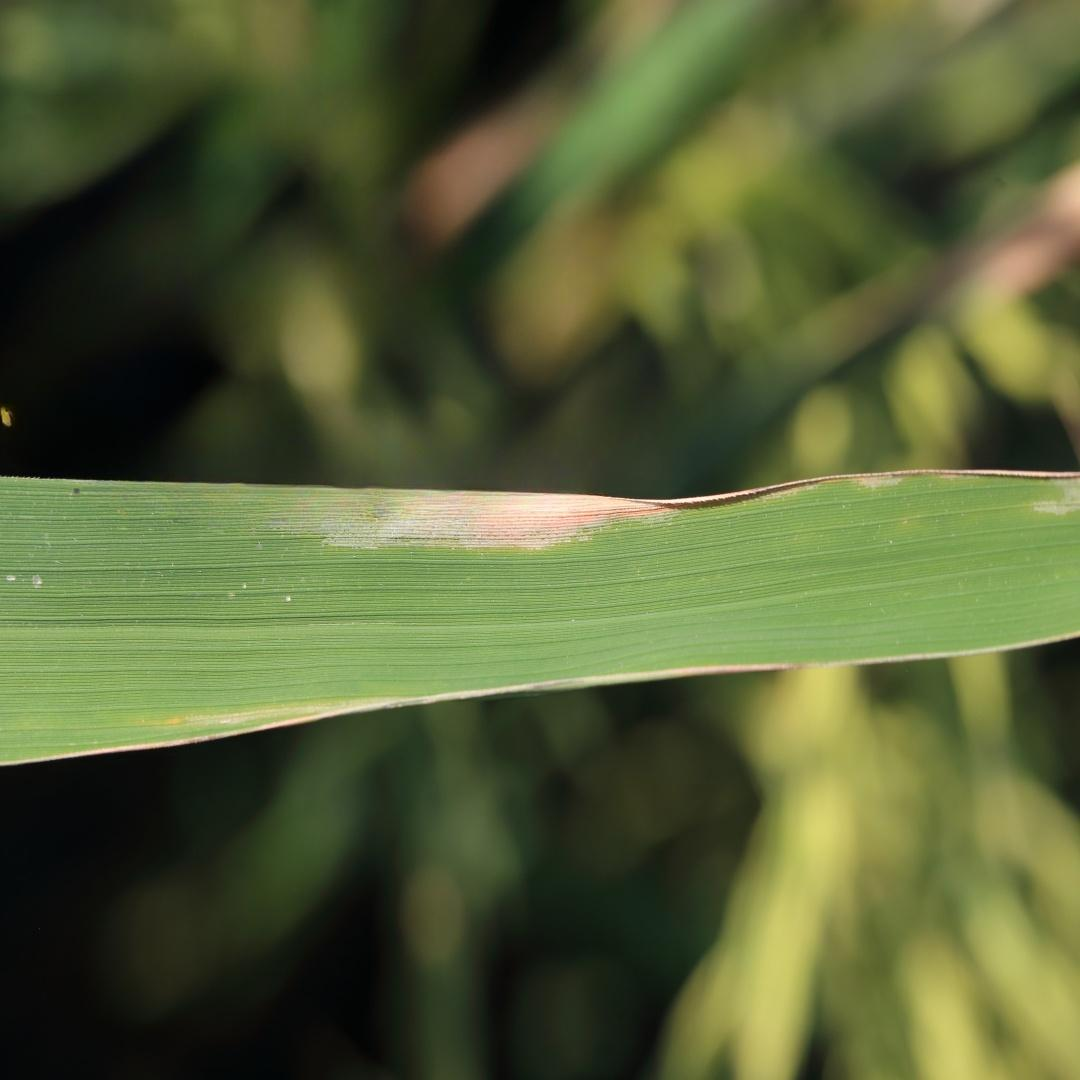BLB: (1, 630, 1079, 765), (319, 471, 1078, 551)
LEAF: (0, 469, 1079, 766)
